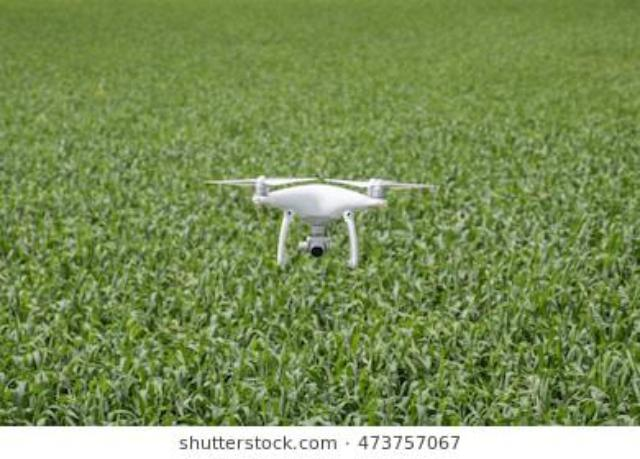drone: (0, 223, 640, 459)
